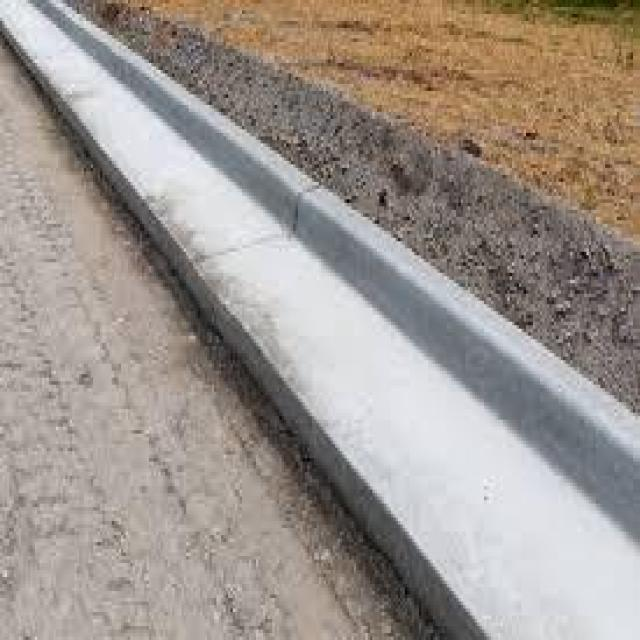curb: (189, 180, 637, 640), (6, 8, 316, 292)
